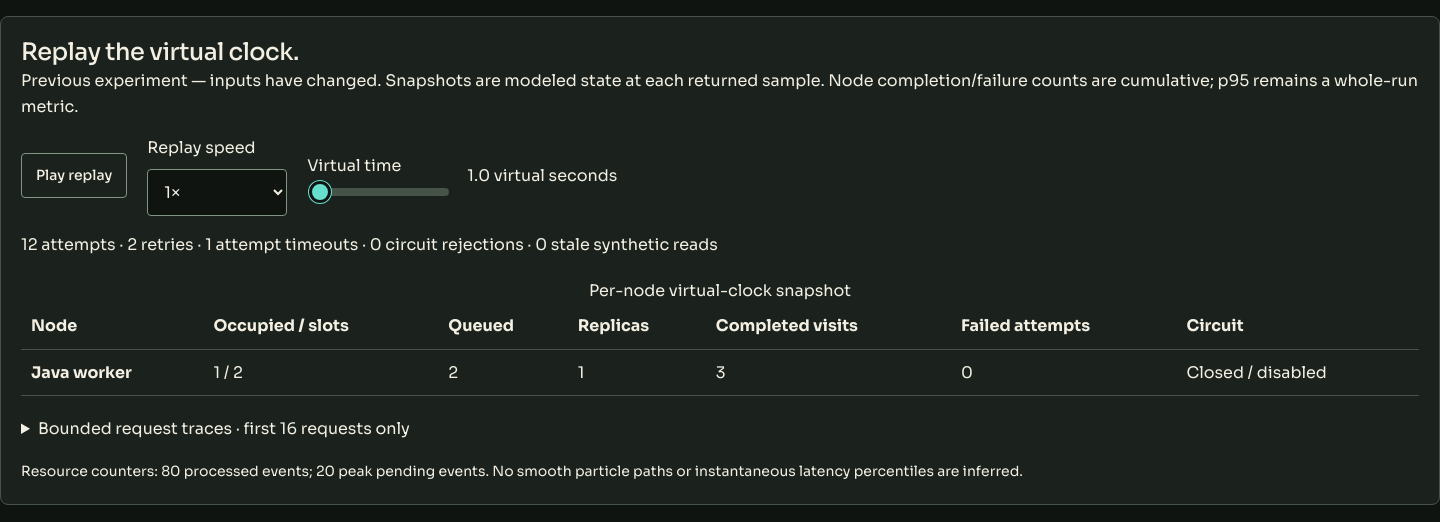
it: bounded simulation presentation › shows only actual selected-time node snapshots and marks old results
Check: the text "Previous experiment" is shown, box [21,70,377,91]
Check: the text "1 / 2" is shown, box [204,349,438,396]
Set the slider labelled "Virtual time" to "1": [441, 192] box [309,188,449,196]
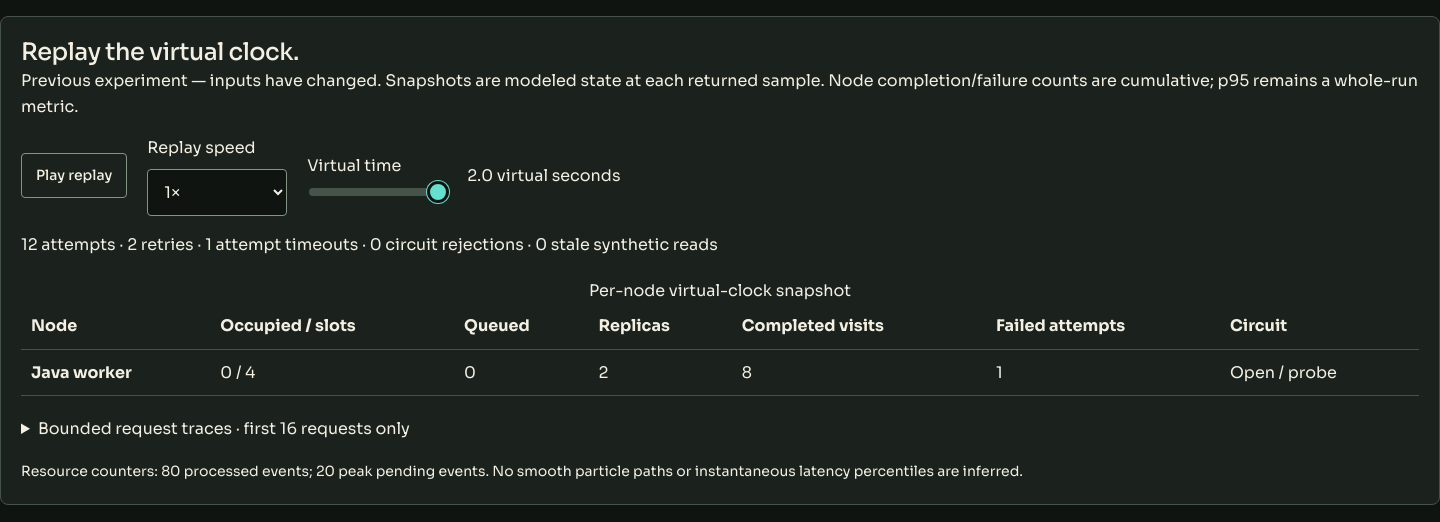
Check: the text "0 / 4" is shown, box [210,349,454,396]
Check: the text "Open / probe" is shown, box [1220,349,1419,396]
Check: the text "2.0 virtual seconds" is shown, box [467,163,620,188]
